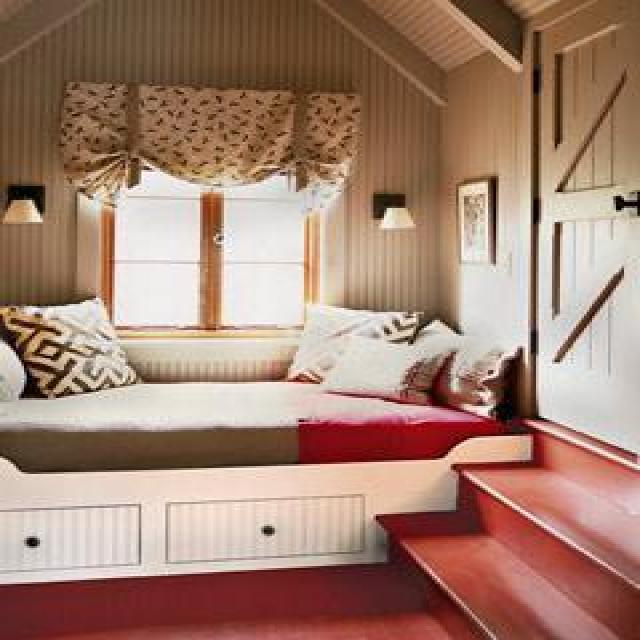bed: (0, 322, 531, 588)
curtains: (56, 78, 363, 206)
door: (526, 0, 638, 466)
indoor-plant: (0, 0, 637, 638)
lamps: (371, 192, 416, 230)
pillows: (0, 296, 141, 398)
shelves: (373, 416, 638, 638)
window: (98, 162, 314, 330)
